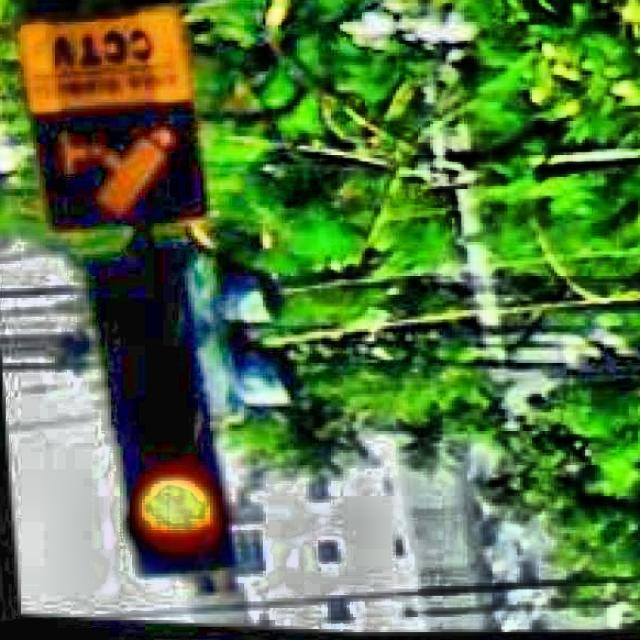red: (82, 237, 218, 592)
